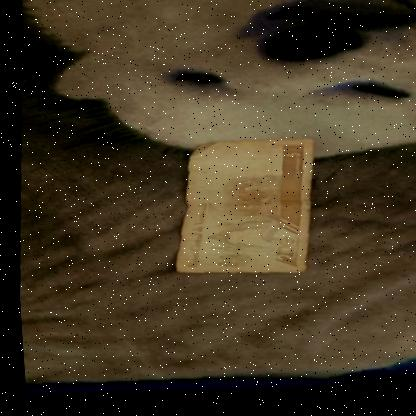five-back-vef: (163, 130, 319, 291)
